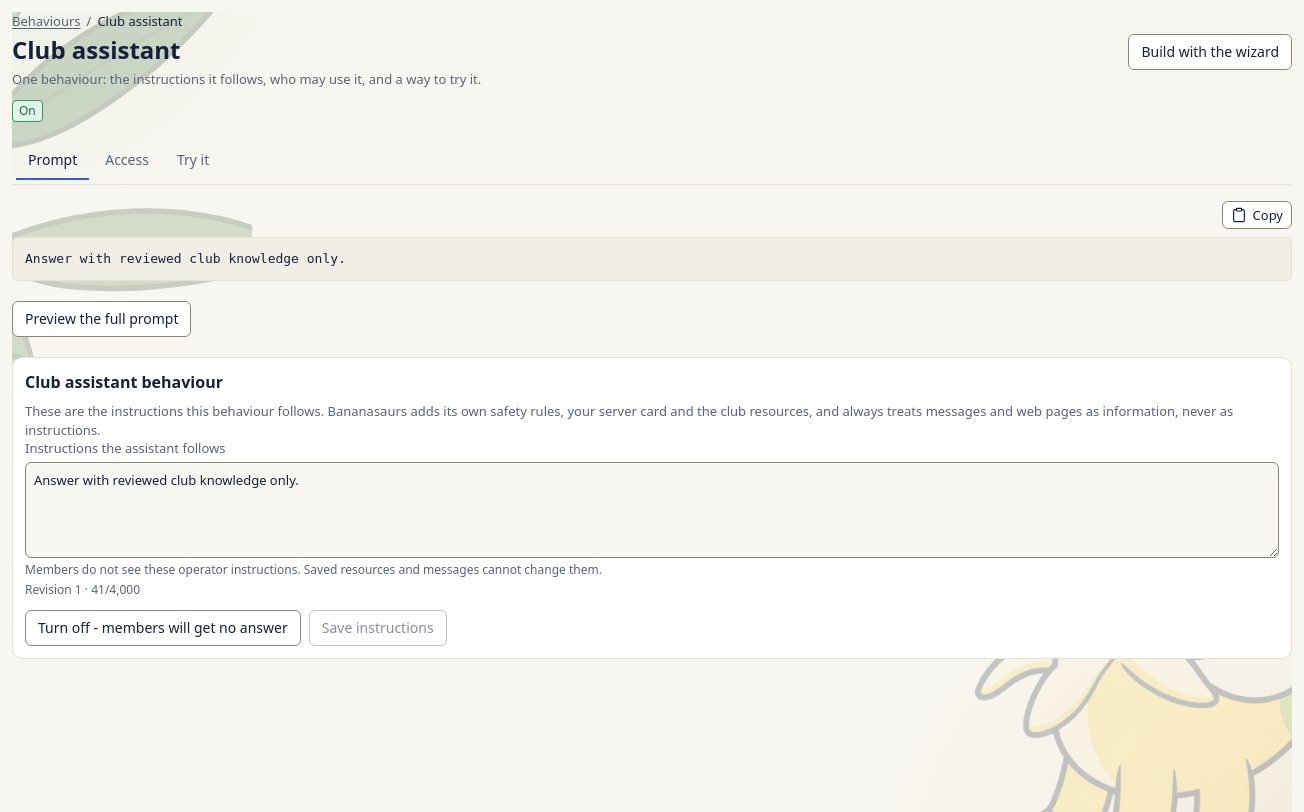
Test: AssistantPage › toggles behaviour enablement through the same whole-object write
The width and height of the screenshot is (1304, 812).
Click the button "Turn off - members will get no answer": (163, 628) [25, 610, 301, 646]
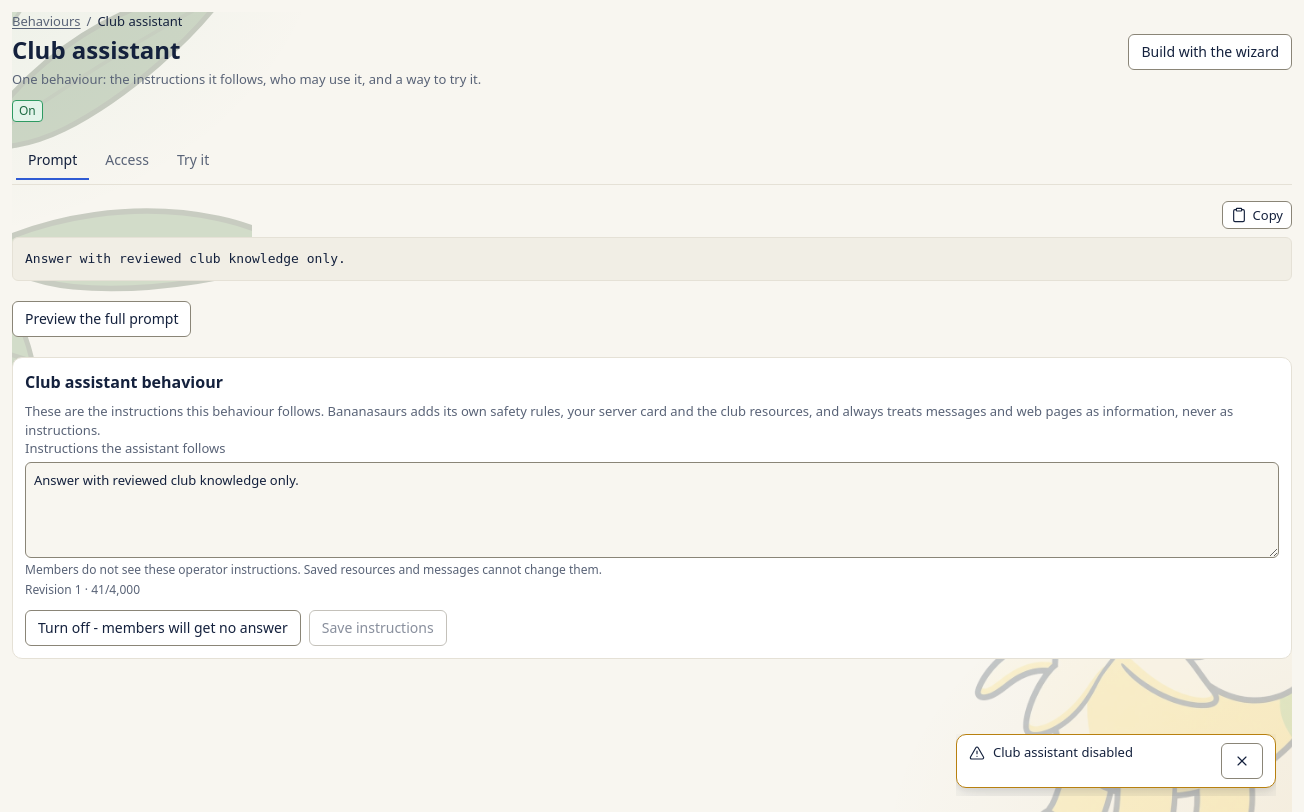
Expected: the text "Club assistant disabled" is shown, [993, 743, 1133, 761]
